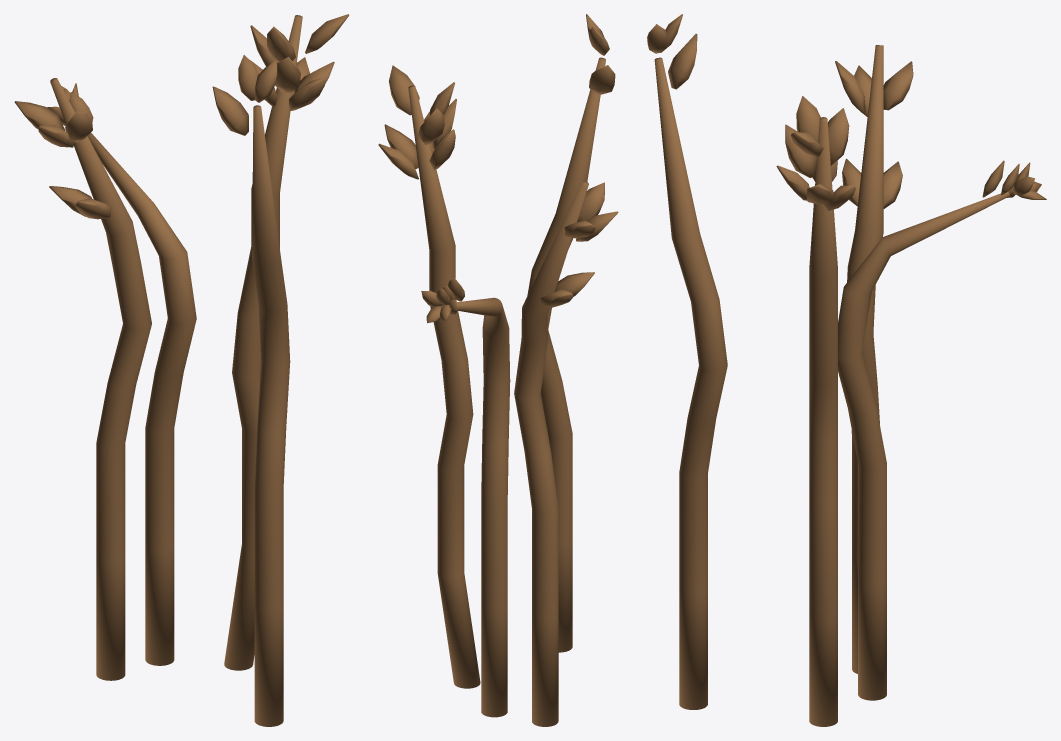
The model's file is DeadWheat 1.fbx.
The picture shows the model from 3 angles, left to right: view 1: azimuth 30°, elevation 25°; view 2: azimuth 150°, elevation 25°; view 3: azimuth 270°, elevation 25°; orthographic projection. The views are drawn at different scales.
Parts seen in each view (by area): view 1: Cube.001, Cube.039, Cube.023, Cube.005, Cube.002, Cube.041, Cube.010, Cube.012, Cube.007, Cube.003, Cube.016, Cube.004 (+2 smaller); view 2: Cube.005, Cube.039, Cube.023, Cube.001, Cube.012, Cube.040, Cube.009, Cube.011, Cube.002, Cube.008, Cube.017, Cube.043 (+3 smaller); view 3: Cube.001, Cube.005, Cube.023, Cube.039, Cube.002, Cube.041, Cube.011, Cube.010, Cube.016, Cube.040, Cube.042.
Part boxes in pixels (x1=…): Cube.001: x1=252, y1=105, x2=290, y2=726; Cube.039: x1=50, y1=78, x2=151, y2=680; Cube.023: x1=88, y1=133, x2=196, y2=665; Cube.005: x1=224, y1=15, x2=302, y2=670; Cube.002: x1=212, y1=86, x2=248, y2=135; Cube.041: x1=14, y1=101, x2=64, y2=130; Cube.010: x1=275, y1=57, x2=300, y2=92; Cube.012: x1=305, y1=14, x2=349, y2=53; Cube.007: x1=289, y1=77, x2=326, y2=111; Cube.003: x1=238, y1=55, x2=258, y2=100; Cube.016: x1=267, y1=26, x2=295, y2=62; Cube.004: x1=255, y1=60, x2=277, y2=102; Cube.005: x1=408, y1=85, x2=480, y2=688; Cube.039: x1=514, y1=181, x2=588, y2=726; Cube.023: x1=457, y1=297, x2=510, y2=717; Cube.001: x1=527, y1=57, x2=605, y2=652; Cube.012: x1=389, y1=65, x2=419, y2=115; Cube.040: x1=577, y1=182, x2=604, y2=222; Cube.009: x1=384, y1=124, x2=418, y2=168; Cube.011: x1=418, y1=108, x2=444, y2=145; Cube.002: x1=589, y1=65, x2=615, y2=94; Cube.008: x1=429, y1=129, x2=455, y2=170; Cube.017: x1=378, y1=143, x2=418, y2=179; Cube.043: x1=555, y1=272, x2=594, y2=296; Cube.001: x1=654, y1=57, x2=727, y2=709; Cube.005: x1=809, y1=117, x2=837, y2=726; Cube.023: x1=838, y1=191, x2=1010, y2=700; Cube.039: x1=847, y1=45, x2=883, y2=673; Cube.002: x1=668, y1=33, x2=697, y2=89; Cube.041: x1=883, y1=61, x2=913, y2=110; Cube.011: x1=828, y1=108, x2=849, y2=165; Cube.010: x1=785, y1=124, x2=816, y2=177; Cube.016: x1=796, y1=96, x2=820, y2=141; Cube.040: x1=835, y1=61, x2=865, y2=113; Cube.042: x1=883, y1=161, x2=902, y2=208.
Size of the model in its own units: 64.06 by 149 by 80.03.
